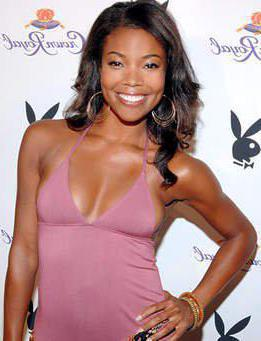Sober: (102, 36, 164, 124)
